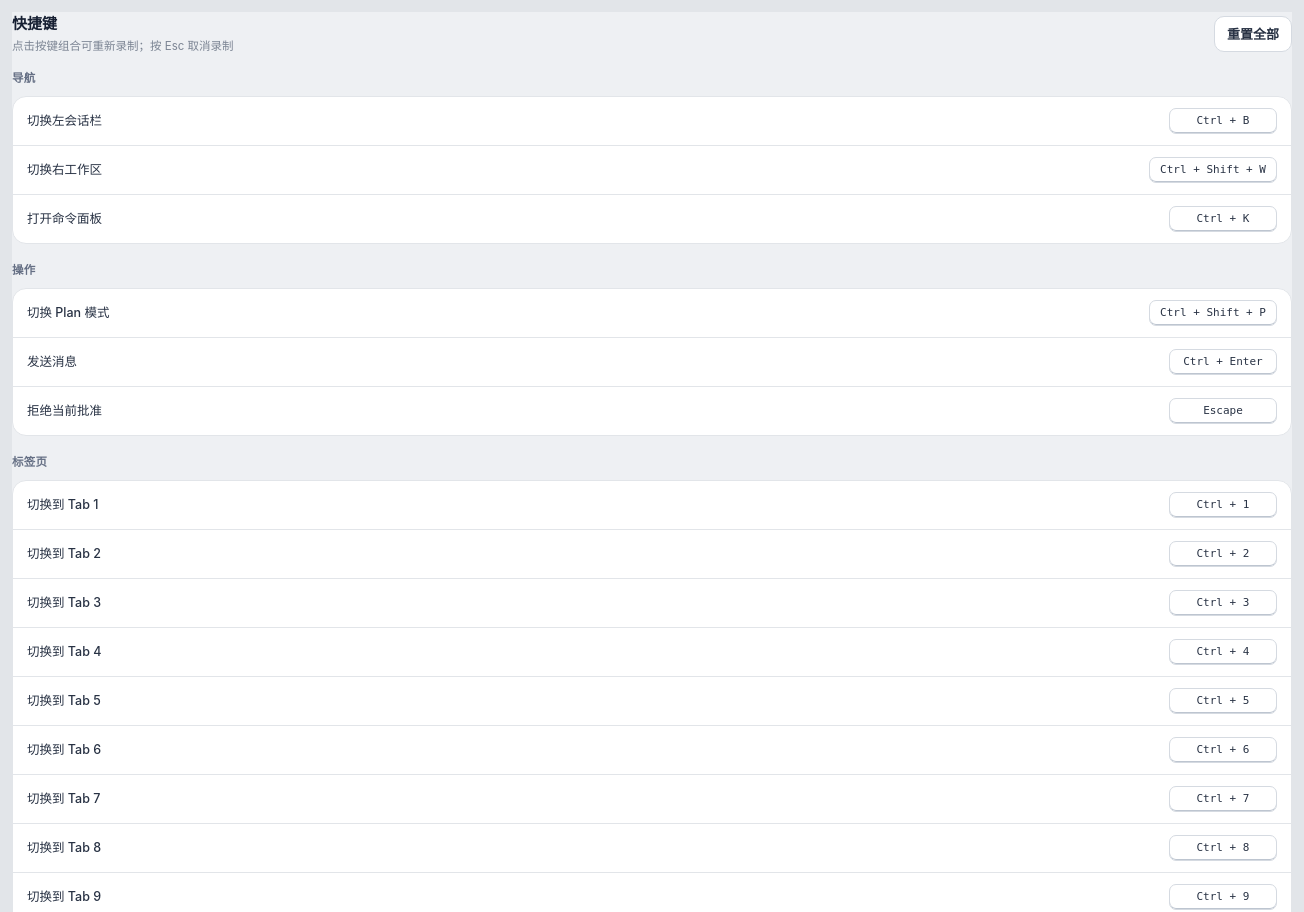
Test: SettingsShortcutsPanel › during recording, Enter is captured as a binding and does not hijack another row
Click the button with class "settings-shortcut-row" showing "切换左会话栏 Ctrl + B".
click(65, 121)  # box [27,108,1277,134]
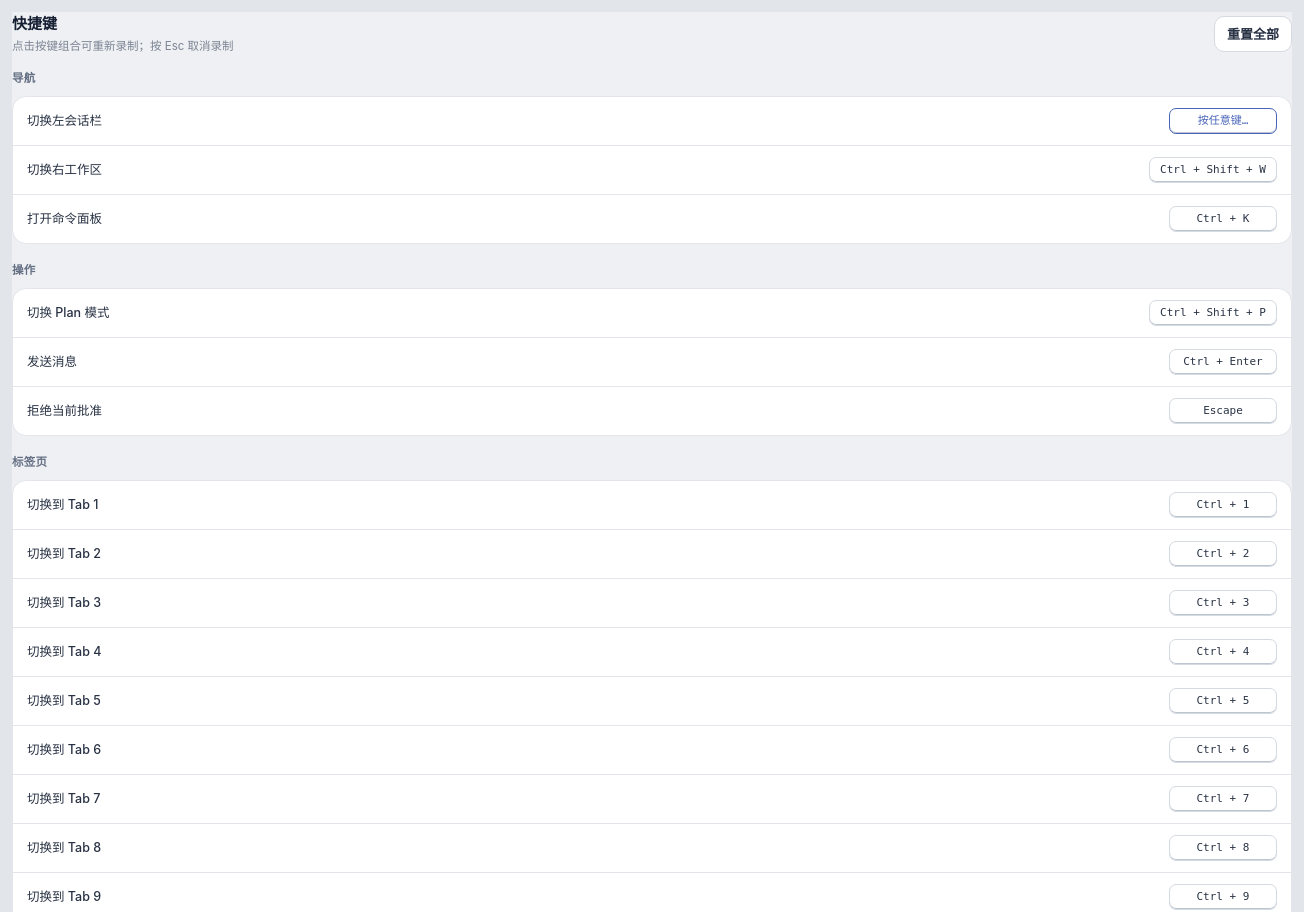
Press Enter in the button with class "settings-shortcut-row" showing "发送消息 Ctrl + Enter", box [13,337,1291,386]
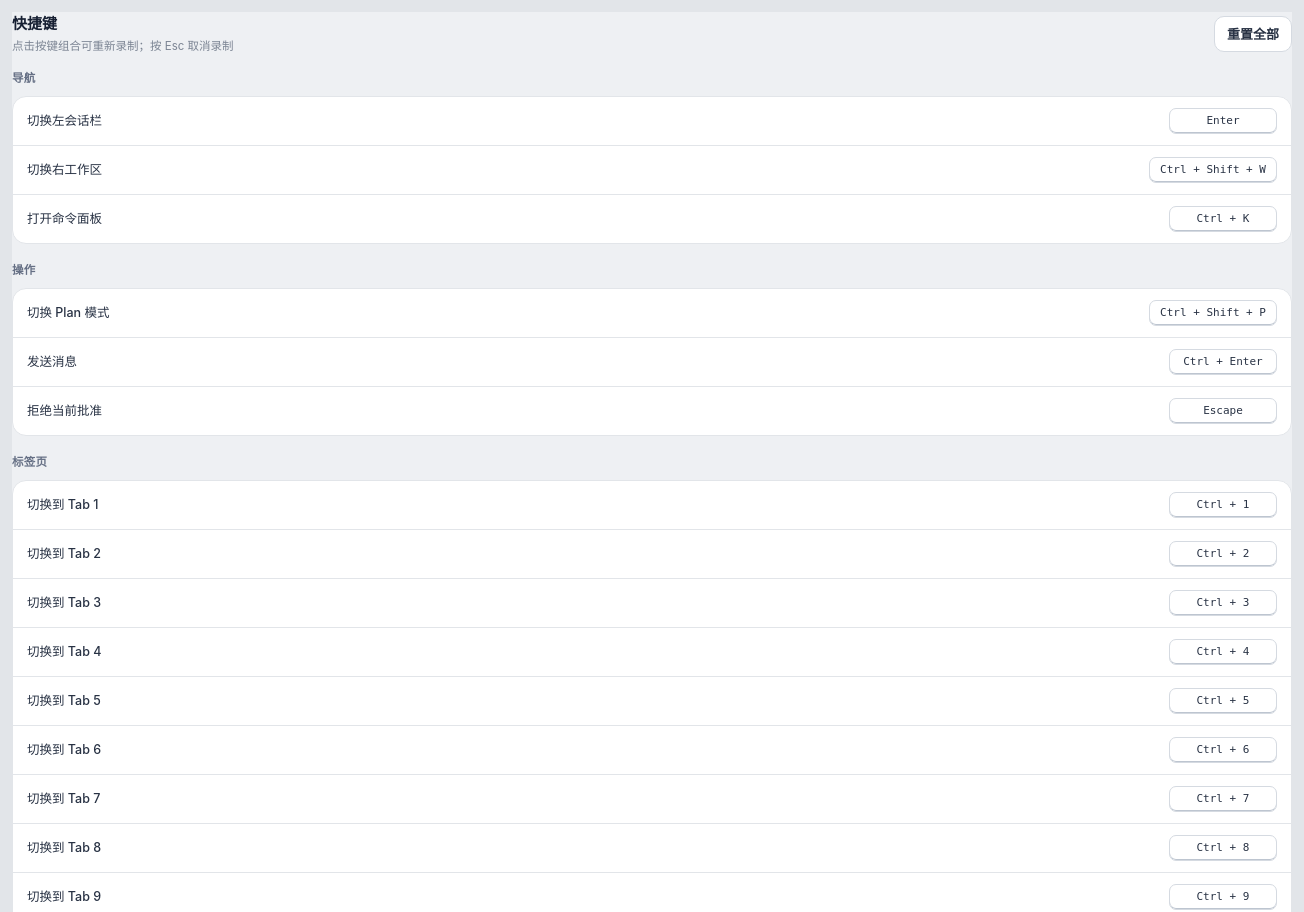
Check: the text "Enter" is shown, box [1169,108,1277,134]
Check: the text with class "kbd" reads "Enter", box [1206,114,1240,127]
Check: the button with class "kbd" no longer shows "按任意键…"
